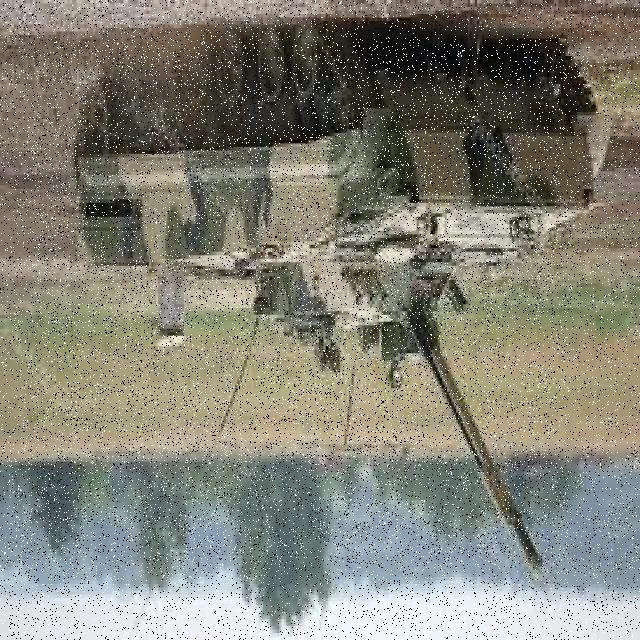MIL_MBT: (23, 44, 568, 564)
